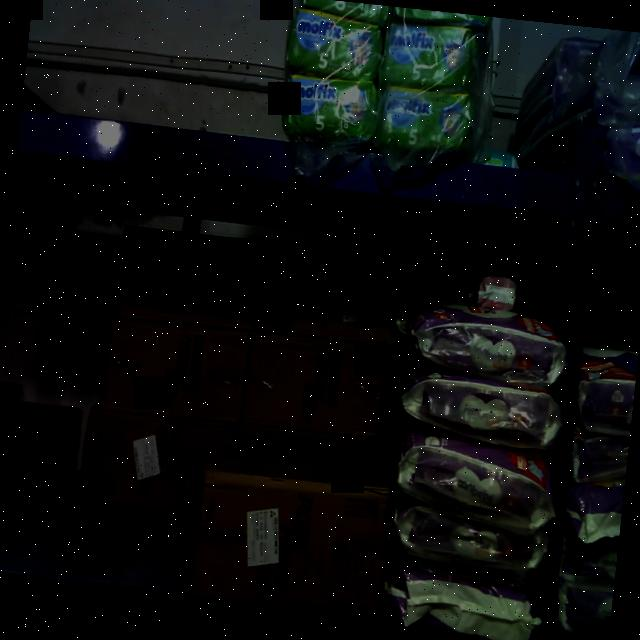box: (189, 466, 393, 618), (240, 329, 403, 439), (254, 234, 407, 346), (101, 313, 251, 427), (114, 221, 264, 331), (80, 405, 209, 514)
